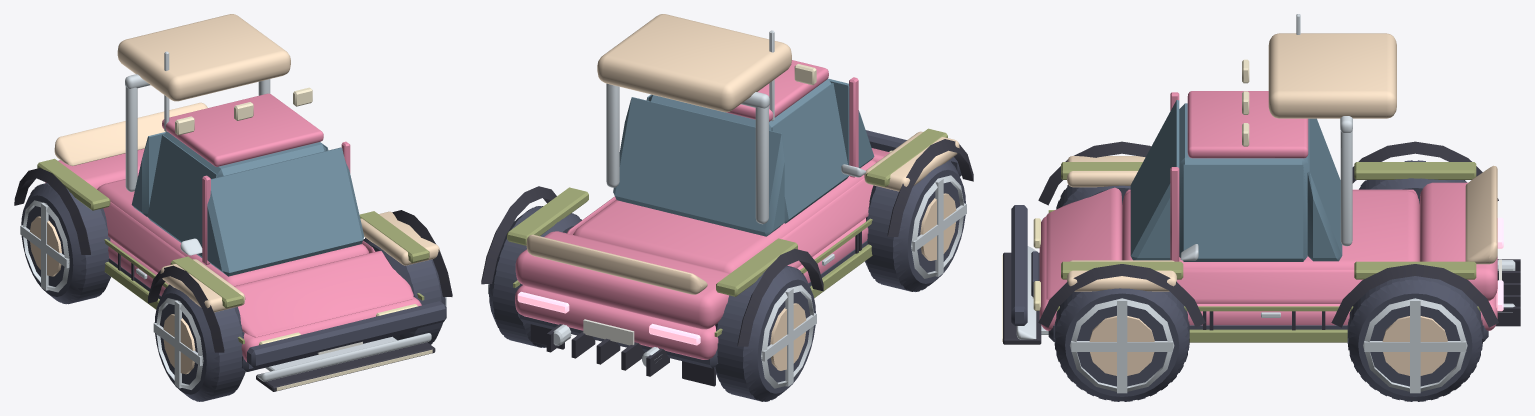
File: summit_sprinter.fbx
The picture shows the model from 3 angles, left to right: view 1: azimuth 30°, elevation 25°; view 2: azimuth 150°, elevation 25°; view 3: azimuth 270°, elevation 25°; orthographic projection. The views are drawn at different scales.
Parts seen in each view (by area): view 1: Body, Glass, Accent3, Trim, Wheel_RR, Trim2, Wheel_FR, Accent, Metal, Accent2, Wheel_FL, Metal2 (+1 smaller); view 2: Body, Glass, Accent3, Trim, Wheel_RR, Accent, Wheel_FR, Metal, Accent2, Wheel_RL, Metal2, Trim2 (+2 smaller); view 3: Body, Glass, Accent3, Trim, Wheel_RL, Accent, Wheel_FL, Metal, Metal2, Trim2, Accent2, Wheel_RR (+3 smaller).
Boxes of the visible parts, x1,y1,x2,y2 form: Body: (45, 93, 421, 361); Glass: (131, 132, 364, 276); Accent3: (54, 14, 439, 312); Trim: (14, 168, 452, 391); Wheel_RR: (21, 183, 110, 304); Trim2: (108, 258, 446, 371); Wheel_FR: (154, 284, 245, 401); Accent: (37, 158, 429, 344); Metal: (20, 200, 446, 389); Accent2: (125, 51, 431, 381); Wheel_FL: (363, 237, 445, 344); Metal2: (30, 216, 195, 374); Body: (515, 60, 889, 359); Glass: (613, 78, 874, 236); Accent3: (526, 14, 959, 294); Trim: (481, 139, 973, 386); Wheel_RR: (714, 265, 815, 401); Accent: (507, 128, 947, 336); Wheel_FR: (865, 160, 965, 291); Metal: (488, 175, 966, 388); Accent2: (606, 30, 865, 224); Wheel_RL: (489, 206, 581, 347); Metal2: (770, 193, 956, 370); Trim2: (518, 130, 961, 368); Body: (1039, 91, 1497, 330); Glass: (1130, 100, 1342, 261); Accent3: (1067, 33, 1497, 291); Trim: (1003, 141, 1520, 344); Wheel_RL: (1347, 276, 1482, 401); Accent: (1048, 162, 1480, 342); Wheel_FL: (1054, 288, 1189, 401); Metal: (1041, 260, 1515, 393); Metal2: (1089, 316, 1447, 375); Trim2: (1011, 205, 1488, 341); Accent2: (1016, 14, 1352, 339); Wheel_RR: (1359, 160, 1466, 203).
Bounding box in the file's own units: 3.21 × 3.39 × 5.32.
